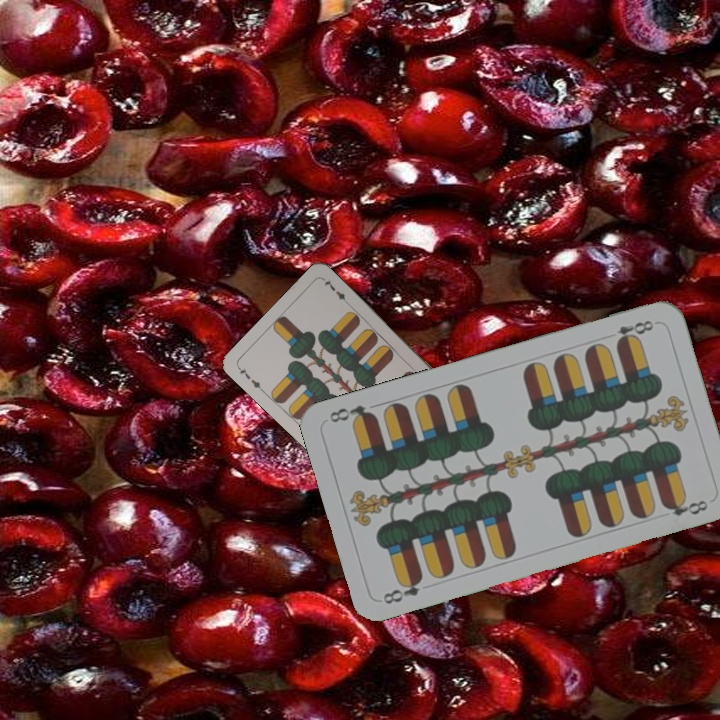E7: (234, 363, 267, 395)
E8: (379, 572, 426, 607), (612, 316, 656, 348)
